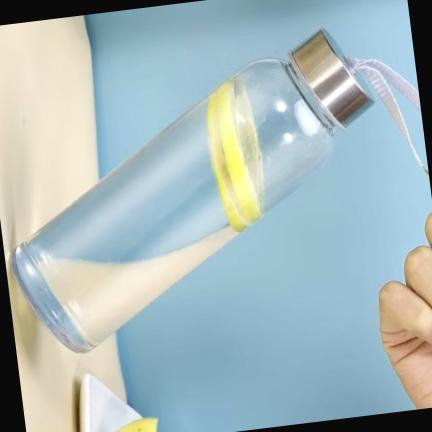container: (11, 58, 335, 351)
fluid: (13, 76, 262, 353)
fluid-surface: (232, 77, 263, 213)
